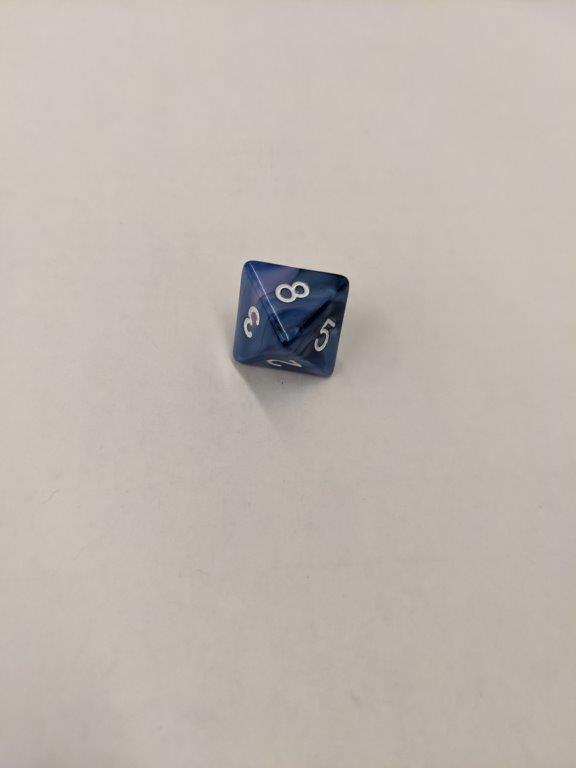d8-8: (229, 258, 349, 379)
